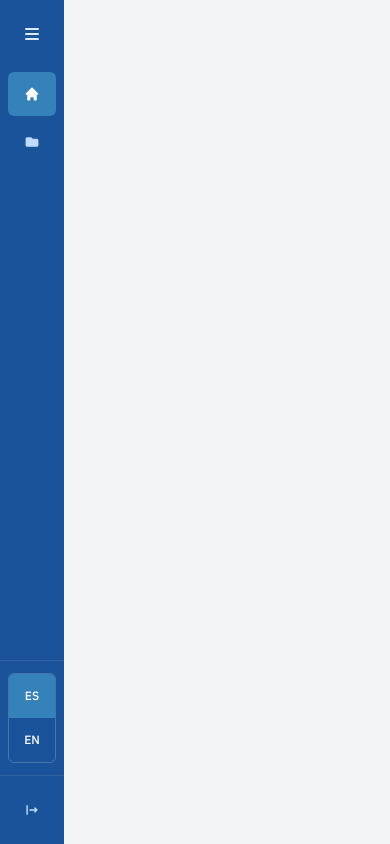
it: Sidebar en tablet (franja de íconos) › elegir un destino cierra el menú abierto
Click the button named "Abrir el menú": coordinates (32, 34) [8,12,56,56]
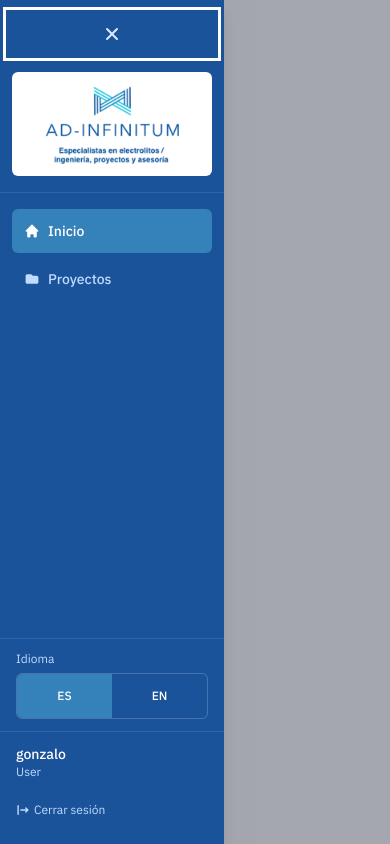
Click the link "Proyectos": coordinates (68, 279) [24,270,112,288]
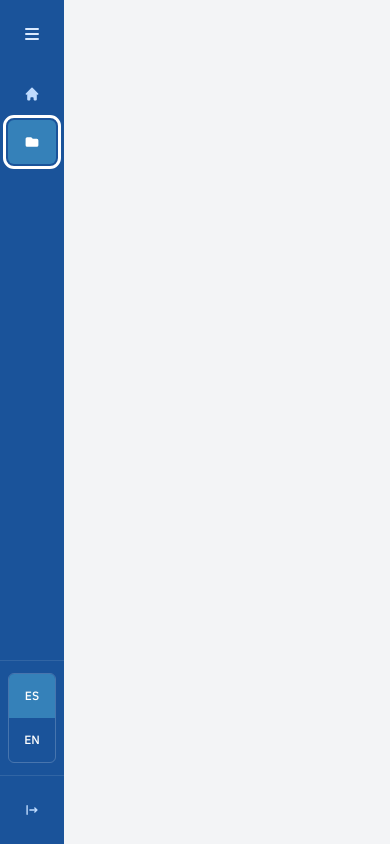
Expected: the button named "Abrir el menú" is collapsed, [8,12,56,56]
